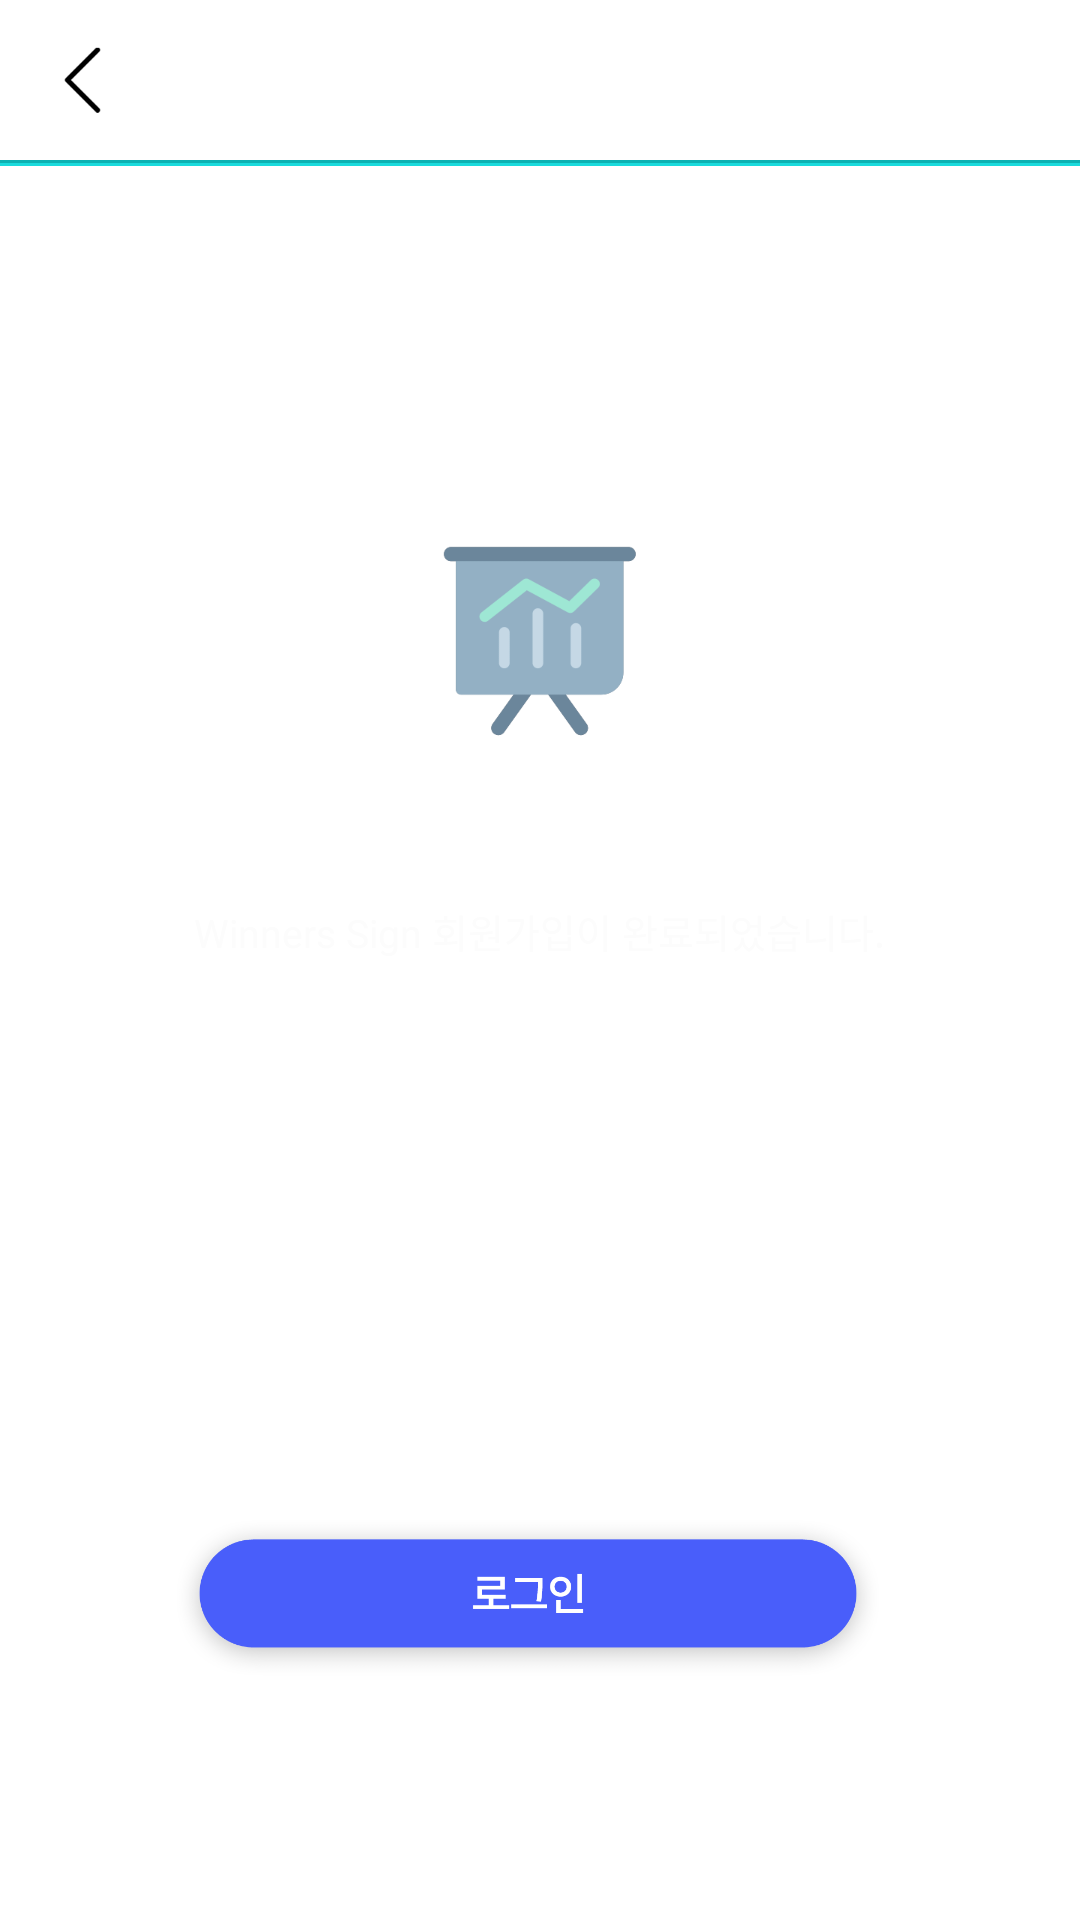

Icon click points for this 1080*1920 phone screenshot, format [x,y]:
top back: [82,80]
